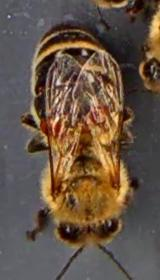varroa_mite: (38, 108, 70, 138), (86, 100, 111, 126)
